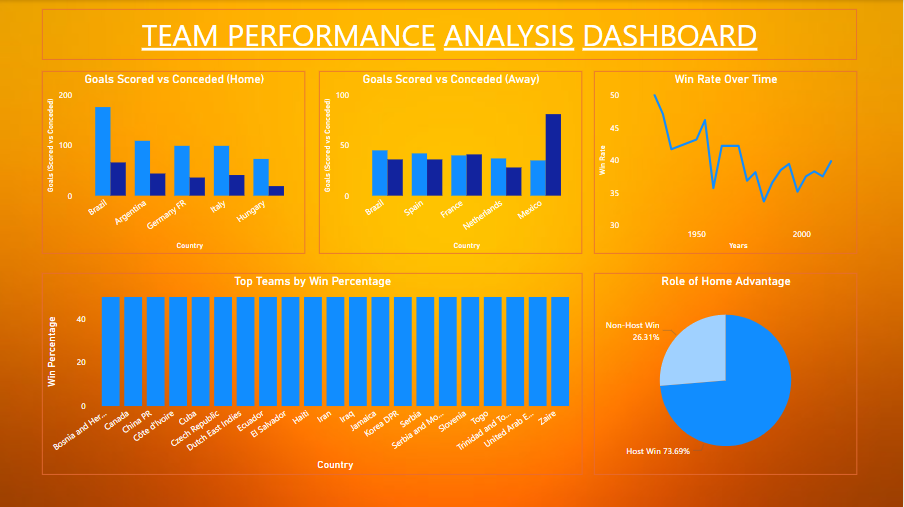

The dashboard page shown, as its layout file describes it:
{"tool":"powerbi","page":{"name":"TEAM PERFORMANCE ANALYSIS DASHBOARD","canvas":[1280,720],"ordinal":1},"visuals":[{"type":"columnChart","title":"Top Teams by Win Percentage","fields":{"Y":["WorldCupMatches.Win Percentage"],"Category":["WorldCupMatches.Away Team Name"]},"box":[60.5,386.4,766,285.6],"z":0},{"type":"clusteredColumnChart","title":"Goals Scored vs Conceded (Home)","fields":{"Category":["WorldCupMatches.Home Team Name"],"Y":["Sum(WorldCupMatches.Home Team Goals)","Sum(WorldCupMatches.Away Team Goals)"]},"box":[60.5,100.8,372.9,258.7],"z":1000},{"type":"clusteredColumnChart","title":"Goals Scored vs Conceded (Away)","fields":{"Category":["WorldCupMatches.Away Team Name"],"Y":["Sum(WorldCupMatches.Away Team Goals)","Sum(WorldCupMatches.Home Team Goals)"]},"box":[453.5,100.8,372.9,258.7],"z":2000},{"type":"lineChart","title":"Win Rate Over Time ","fields":{"Category":["WorldCupMatches.Year"],"Y":["WorldCupMatches.Win Percentage"]},"box":[843.3,100.8,372.9,258.7],"z":3000},{"type":"pieChart","title":"Role of Home Advantage","fields":{"Category":["WorldCupMatches.Home Advantage"],"Y":["WorldCupMatches.TotalWins"]},"box":[843.3,386.4,372.9,285.6],"z":4000},{"type":"textbox","box":[60.9,12.8,1155.1,72.3],"z":5000}]}

Visuals, with their boxes in screenshot pixels (x1, y1, x2, y2), scaled from the page's 1280x720 canvas onto the 904x507 screenshot:
"Top Teams by Win Percentage" columnChart: box=[43, 272, 584, 473]
"Goals Scored vs Conceded (Home)" clusteredColumnChart: box=[43, 71, 306, 253]
"Goals Scored vs Conceded (Away)" clusteredColumnChart: box=[320, 71, 584, 253]
"Win Rate Over Time " lineChart: box=[596, 71, 859, 253]
"Role of Home Advantage" pieChart: box=[596, 272, 859, 473]
textbox: box=[43, 9, 859, 60]
